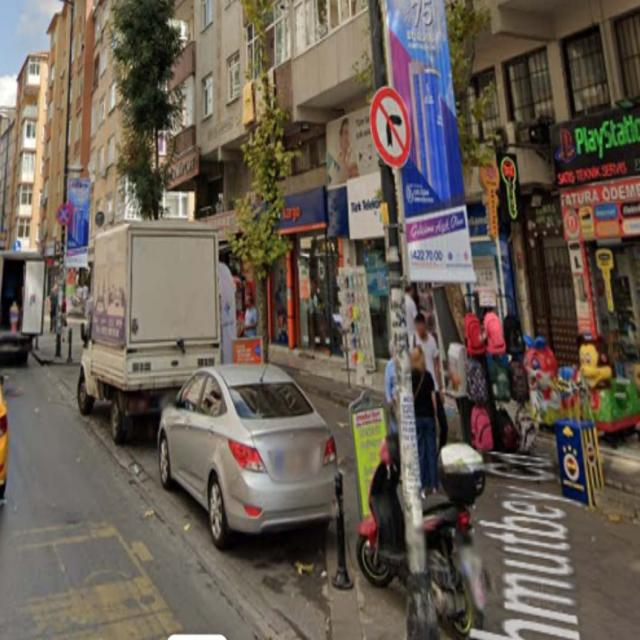sagadonulmez: (370, 83, 412, 172)
